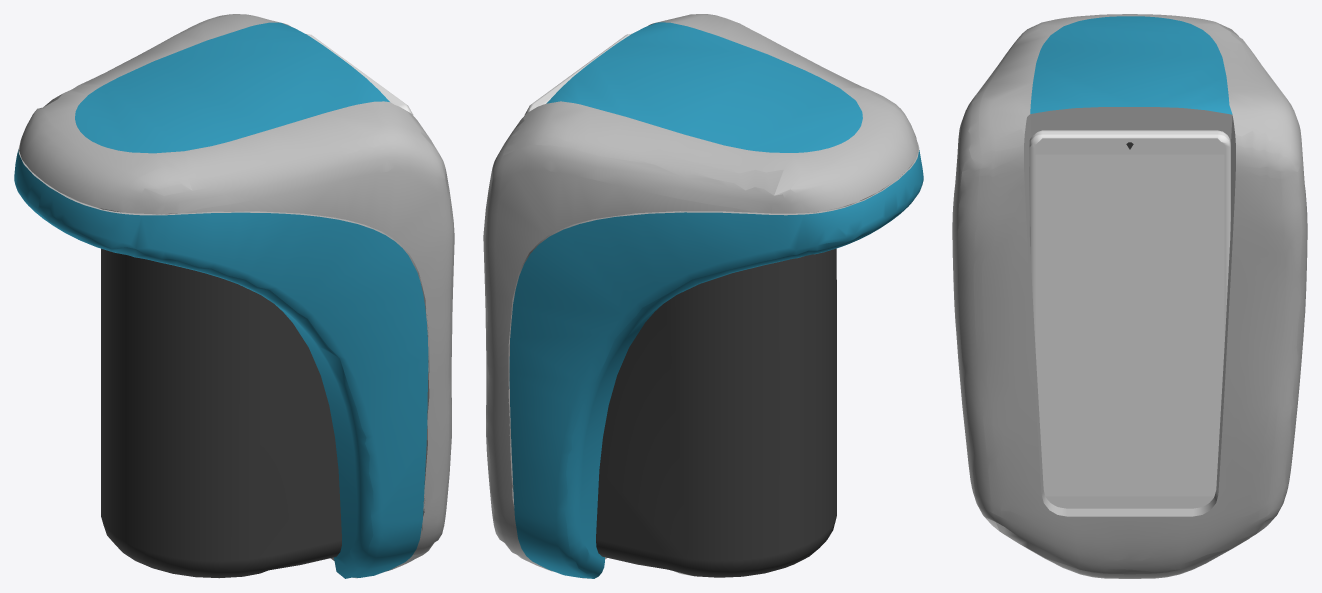
File: head_link.dae
3 views of the same model, side by side, from view 1: azimuth 30°, elevation 25°; view 2: azimuth 150°, elevation 25°; view 3: azimuth 270°, elevation 25° (orthographic). The views are drawn at different scales.
Visible parts, largest first — view 1: FBXASC227FBXASC130FBXASC189FBXASC227FBXASC131FBXASC170FBXASC (×2); view 2: FBXASC227FBXASC130FBXASC189FBXASC227FBXASC131FBXASC170FBXASC (×2); view 3: FBXASC227FBXASC130FBXASC189FBXASC227FBXASC131FBXASC170FBXASC (×2).
Part boxes in pixels (<box>): FBXASC227FBXASC130FBXASC189FBXASC227FBXASC131FBXASC170FBXASC (×2): <box>14,14,454,578</box>; FBXASC227FBXASC130FBXASC189FBXASC227FBXASC131FBXASC170FBXASC (×2): <box>483,14,923,578</box>; FBXASC227FBXASC130FBXASC189FBXASC227FBXASC131FBXASC170FBXASC (×2): <box>952,14,1307,578</box>.
Bounding box in the file's own units: 0.132 × 0.1319 × 0.1919.
